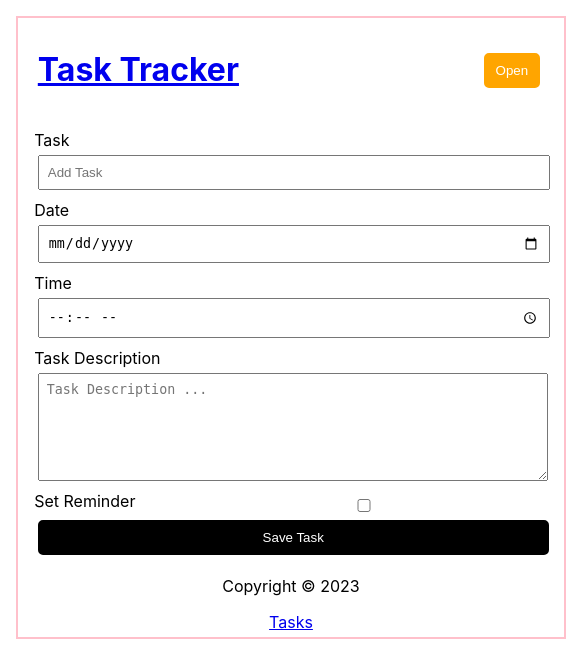
App Component › toggles form on button click
This screenshot has width=583, height=656.
Click the button "Open": (512, 71) [484,53,540,88]
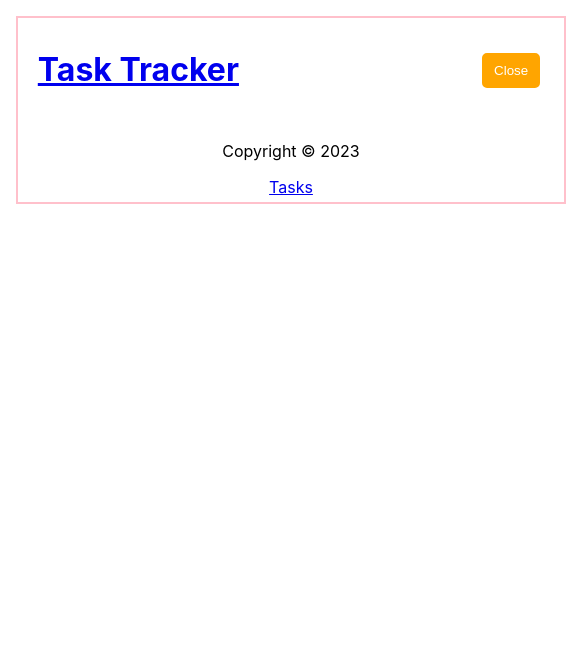
Expected: the button "Close" is shown, [482,53,540,88]
